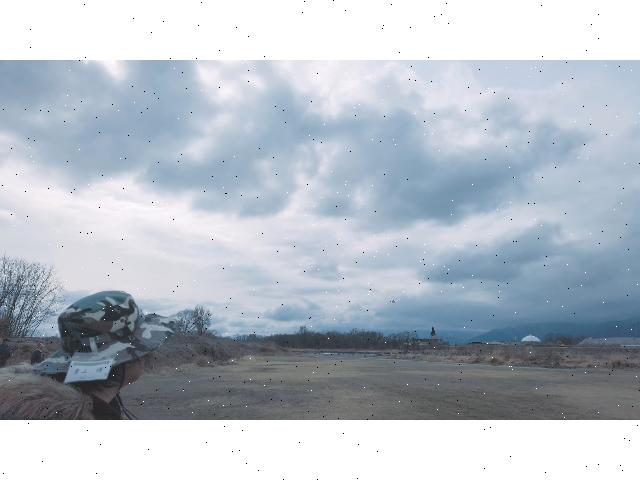Anti-Drone: (384, 296, 402, 308)
